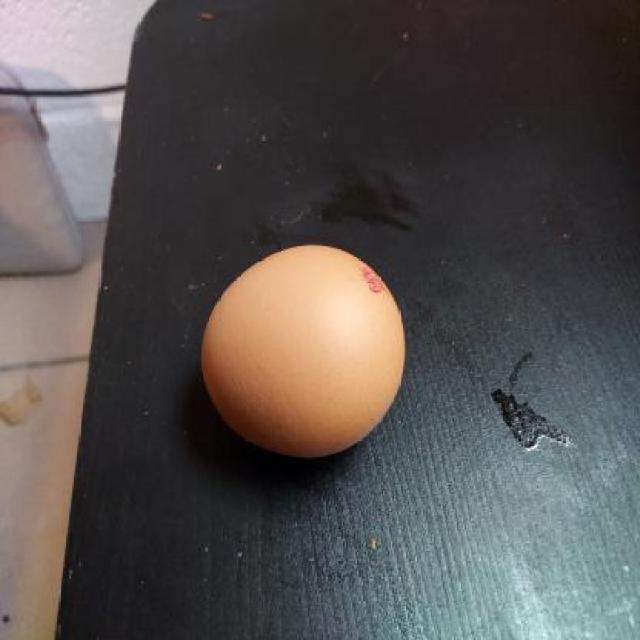biodegradable: (198, 244, 406, 462)
